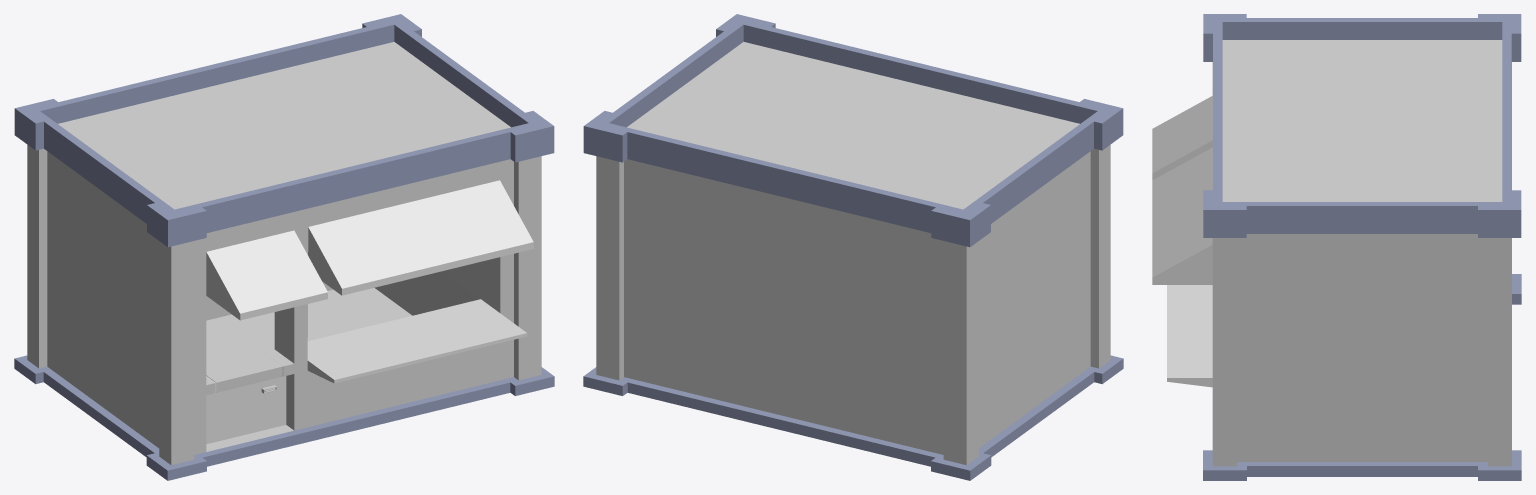
The model's file is building-lvl2.fbx.
3 views of the same model, side by side, from view 1: azimuth 30°, elevation 25°; view 2: azimuth 150°, elevation 25°; view 3: azimuth 270°, elevation 25° (orthographic). The views are drawn at different scales.
Visible parts, largest first — view 1: Cube; view 2: Cube; view 3: Cube.
Part boxes in pixels (<box>): Cube: <box>14,14,554,480</box>; Cube: <box>583,14,1123,480</box>; Cube: <box>1152,14,1521,480</box>.
Bounding box in the file's own units: 1217 × 784 × 969.
